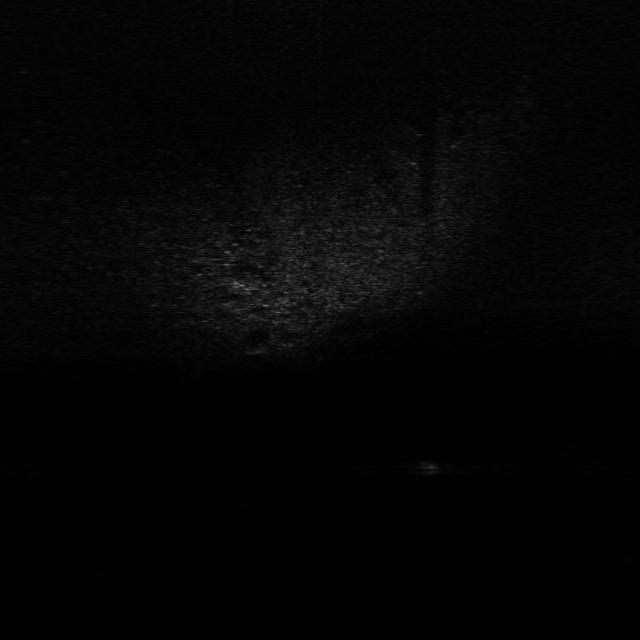cylinder: (414, 458, 444, 478)
